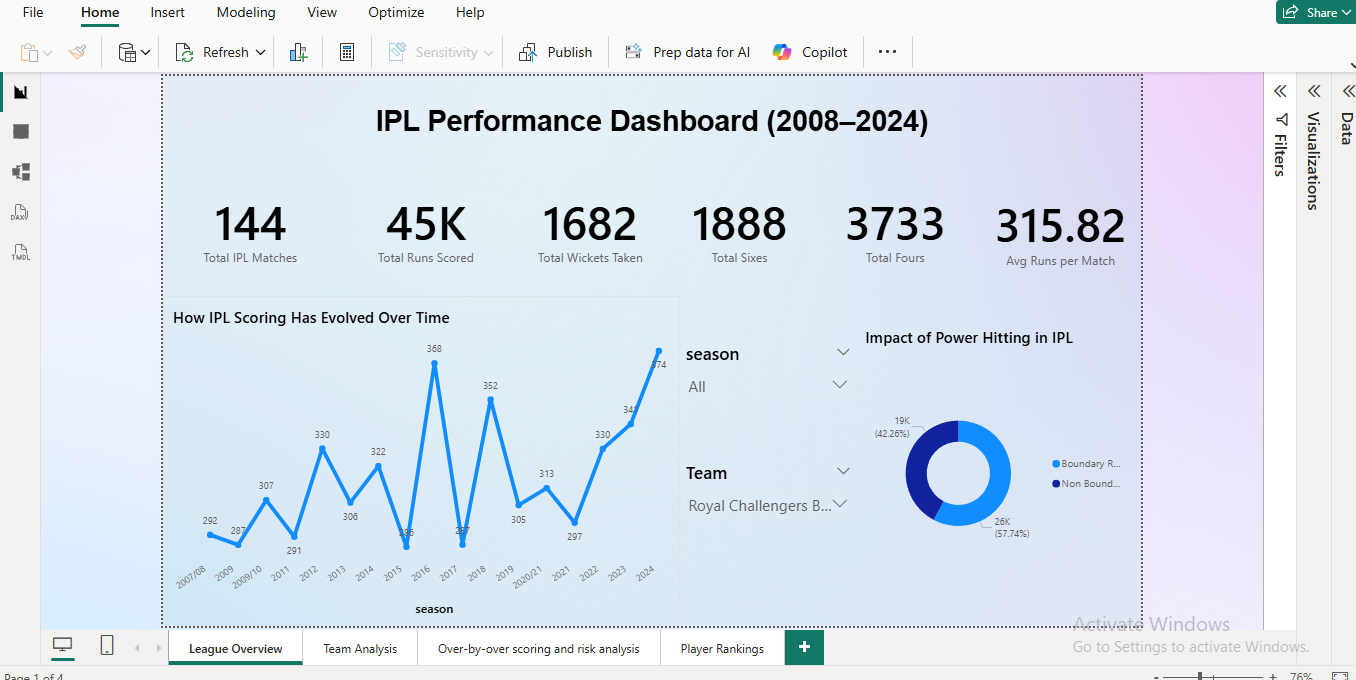

What the dashboard file says about the page in this screenshot:
{"tool":"powerbi","page":{"name":"League Overview","canvas":[1280,720],"ordinal":0},"visuals":[{"type":"textbox","box":[0,18.7,1280.2,67.7],"z":0},{"type":"card","fields":{"Values":["deliveries.Total Matches"]},"box":[0,86.4,229,233.3],"z":1000},{"type":"card","fields":{"Values":["deliveries.Total Runs"]},"box":[229,86.4,230.4,233.3],"z":2000},{"type":"card","fields":{"Values":["deliveries.Total Wickets"]},"box":[430.6,86.4,257.8,233.3],"z":3000},{"type":"card","fields":{"Values":["Logos.Total Fours"]},"box":[845.3,86.4,226.1,233.3],"z":4000},{"type":"card","fields":{"Values":["Logos.Total Sixes"]},"box":[639.4,86.4,231.8,233.3],"z":5000},{"type":"slicer","fields":{"Values":["Teams.Team"]},"box":[676.8,504,230.4,110.9],"z":6000},{"type":"slicer","fields":{"Values":["matches.season"]},"box":[676.8,348.5,230.4,118.1],"z":7000},{"type":"card","fields":{"Values":["Logos.Avg Runs per Match"]},"box":[1071.4,85,208.8,234.7],"z":8000},{"type":"lineChart","title":"How IPL Scoring Has Evolved Over Time","fields":{"Category":["matches.season"],"Y":["Logos.Avg Runs per Match"]},"box":[0,288,676.8,432],"z":9000},{"type":"donutChart","title":"Impact of Power Hitting in IPL","fields":{"Y":["Logos.Boundary Runs","Logos.Non Boundary Runs"]},"box":[907.2,315.4,373,377.3],"z":10000}]}

Visuals, with their boxes on the page's 1280x720 design canvas (x1, y1, x2, y2). These are canvas units, not pixel positions in the 1356x680 screenshot, which may show the page scaled, cropped or inside an application window:
textbox: (0,19,1280,86)
card - deliveries.Total Matches: (0,86,229,320)
card - deliveries.Total Runs: (229,86,459,320)
card - deliveries.Total Wickets: (431,86,688,320)
card - Logos.Total Fours: (845,86,1071,320)
card - Logos.Total Sixes: (639,86,871,320)
slicer - Teams.Team: (677,504,907,615)
slicer - matches.season: (677,348,907,467)
card - Logos.Avg Runs per Match: (1071,85,1280,320)
"How IPL Scoring Has Evolved Over Time" lineChart: (0,288,677,720)
"Impact of Power Hitting in IPL" donutChart: (907,315,1280,693)
